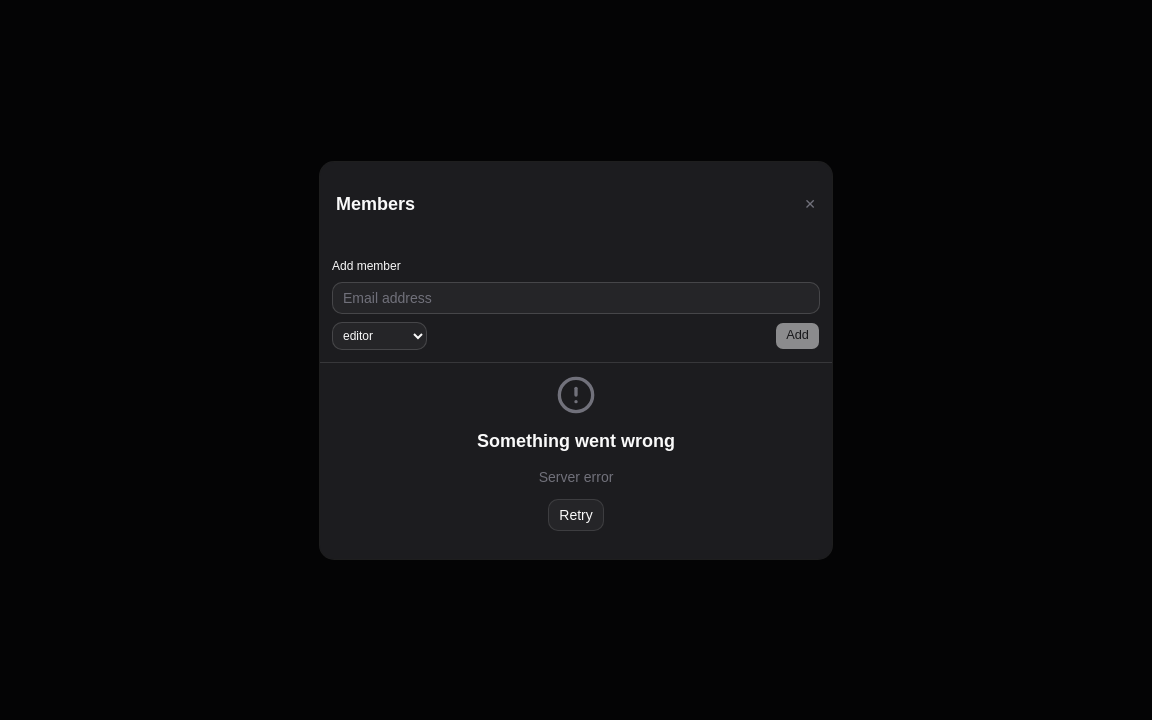
Scenario: MembersPanel › shows error with retry on fetch failure
Expected: the text "Server error" is shown, [539,466,613,486]
Click the button "Retry". click: point(576, 514)
box: [548,498,604,530]
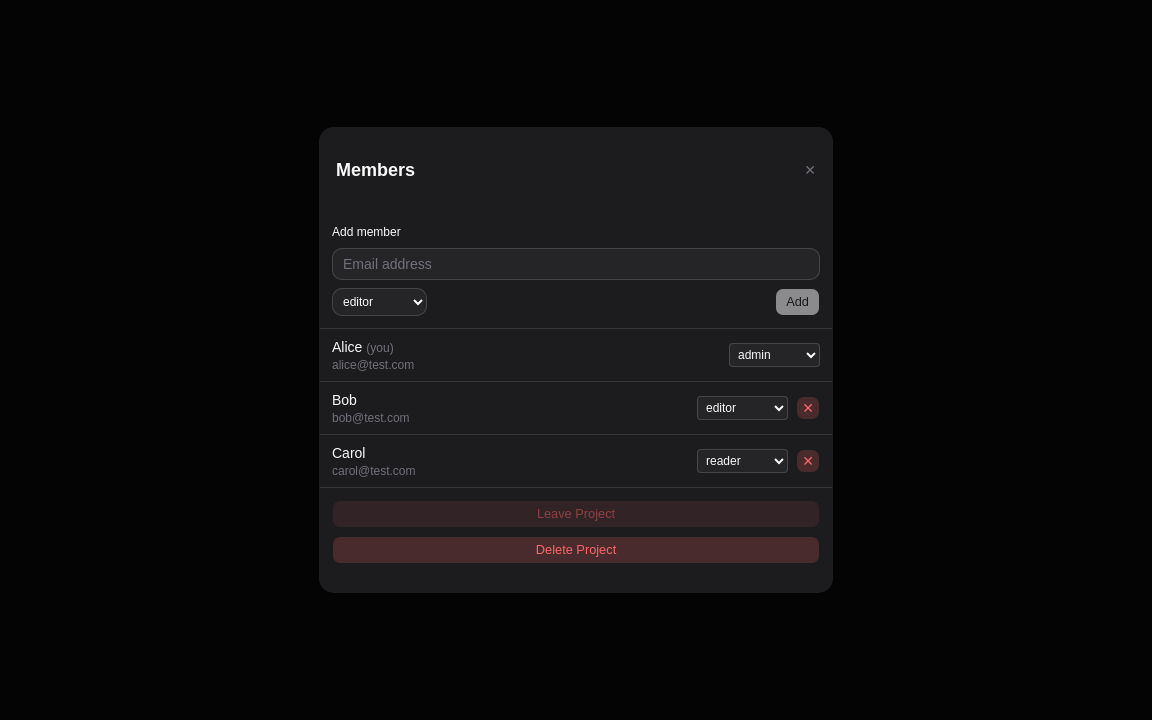
Expected: the text "Alice" is shown, [332,339,362,355]
